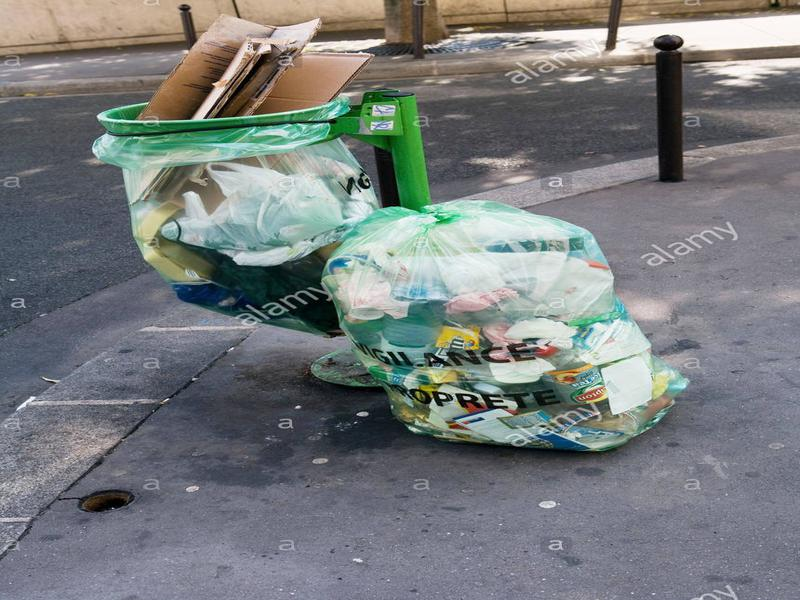plastic: (308, 196, 701, 458), (96, 142, 387, 343)
